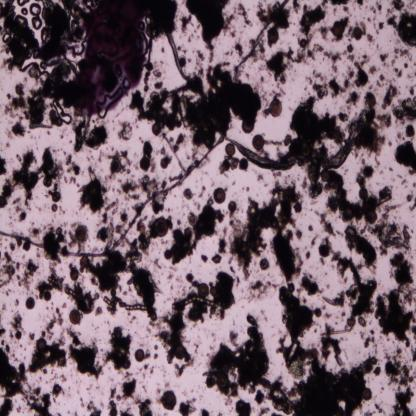Air bubble: (52, 101, 73, 125), (31, 16, 43, 30), (30, 3, 41, 16), (20, 6, 29, 16), (16, 0, 30, 6), (2, 34, 11, 42)
Background material: (180, 62, 261, 148), (270, 356, 378, 416), (202, 314, 272, 406), (225, 196, 277, 280), (285, 98, 347, 160), (275, 282, 314, 380), (330, 252, 376, 330), (323, 171, 394, 216), (184, 0, 236, 60), (128, 234, 161, 322), (0, 0, 39, 70), (373, 284, 416, 346), (347, 107, 392, 166), (129, 88, 183, 132), (383, 348, 416, 416), (65, 324, 103, 379), (376, 202, 412, 256), (41, 5, 74, 63), (159, 312, 194, 364), (272, 178, 303, 232), (90, 253, 128, 297), (94, 202, 126, 251), (346, 222, 377, 272), (273, 232, 304, 282), (13, 152, 38, 210), (104, 325, 134, 373), (0, 348, 28, 398), (80, 166, 108, 216), (72, 119, 111, 153), (164, 228, 198, 266), (43, 65, 73, 108), (306, 70, 350, 98), (193, 202, 226, 239), (30, 343, 68, 372), (118, 174, 168, 196), (148, 1, 177, 38), (322, 321, 345, 367), (267, 49, 298, 83), (22, 382, 52, 416), (29, 88, 52, 132), (299, 4, 325, 42), (388, 250, 415, 286), (41, 147, 63, 190), (43, 225, 67, 263), (323, 43, 355, 71), (2, 80, 27, 115), (213, 272, 237, 308), (393, 140, 416, 174), (15, 257, 38, 290), (391, 92, 416, 122), (73, 282, 94, 316), (398, 11, 416, 50), (127, 236, 152, 264), (40, 308, 64, 337), (246, 281, 279, 302), (353, 52, 371, 89), (305, 162, 323, 198), (185, 300, 209, 325), (300, 272, 326, 295), (357, 160, 376, 191), (316, 210, 337, 238), (0, 252, 16, 288), (106, 151, 132, 173), (64, 154, 80, 186), (0, 173, 13, 211), (298, 44, 324, 63), (381, 84, 399, 111), (212, 237, 229, 265), (236, 1, 252, 28), (168, 273, 186, 296), (108, 387, 122, 416), (178, 396, 198, 416), (134, 397, 154, 416), (124, 192, 143, 211), (174, 360, 194, 378), (144, 57, 154, 92), (12, 115, 27, 138), (358, 329, 376, 348), (120, 379, 137, 399), (116, 121, 132, 142), (12, 198, 26, 221), (343, 90, 359, 110), (8, 312, 24, 332), (159, 146, 172, 170), (314, 25, 332, 41), (152, 195, 167, 214), (392, 48, 412, 62), (235, 400, 252, 416), (86, 400, 102, 416), (38, 280, 50, 301), (186, 272, 200, 290), (0, 398, 14, 416), (410, 323, 416, 365), (179, 13, 192, 32), (209, 310, 226, 323), (141, 140, 153, 158), (334, 290, 346, 308), (386, 10, 397, 29), (403, 123, 416, 139), (154, 62, 165, 80), (139, 363, 153, 377), (27, 224, 42, 237), (48, 276, 61, 291), (338, 108, 351, 123), (379, 51, 391, 67), (406, 193, 416, 212), (391, 0, 405, 13), (339, 16, 352, 29), (119, 405, 134, 416), (0, 156, 8, 176), (234, 42, 245, 56), (327, 0, 349, 7), (52, 384, 63, 398), (292, 0, 301, 16), (376, 74, 386, 88), (29, 65, 39, 79), (360, 19, 368, 36), (182, 188, 194, 199), (21, 239, 31, 252), (366, 32, 376, 45), (369, 65, 378, 79), (396, 175, 407, 186), (393, 67, 403, 79), (154, 79, 164, 90), (155, 387, 161, 405), (95, 305, 104, 317), (376, 1, 383, 16), (198, 185, 206, 198), (154, 343, 160, 360), (406, 0, 416, 10), (200, 253, 209, 264), (144, 347, 151, 361), (373, 365, 381, 377), (304, 249, 312, 261), (51, 201, 59, 213), (343, 6, 352, 16), (14, 153, 22, 164), (4, 342, 11, 354), (200, 408, 210, 416), (0, 324, 6, 337), (9, 241, 16, 252), (28, 332, 36, 341), (13, 298, 20, 308), (16, 238, 22, 249), (256, 174, 264, 182), (355, 0, 364, 6), (378, 22, 384, 30), (308, 225, 314, 232)
Cellulose filter fibre: (221, 132, 353, 169), (238, 1, 288, 67), (168, 34, 191, 84)
Cotton: (0, 138, 225, 261)
Diatom: (163, 135, 188, 172), (170, 296, 219, 312), (269, 98, 283, 118), (154, 218, 168, 238), (162, 390, 176, 410), (213, 186, 226, 204), (118, 304, 147, 312), (251, 134, 265, 150), (197, 281, 209, 299), (74, 226, 87, 242), (242, 118, 255, 134), (331, 22, 344, 36), (318, 243, 330, 258), (217, 373, 229, 388), (69, 309, 81, 324), (42, 288, 52, 305), (267, 29, 279, 43), (79, 255, 91, 269), (139, 157, 151, 171), (366, 211, 379, 223), (36, 337, 47, 351), (320, 168, 331, 182), (342, 207, 353, 221), (174, 346, 184, 361), (225, 142, 235, 157), (134, 349, 145, 362), (187, 213, 198, 226), (64, 288, 78, 298), (362, 388, 372, 402), (366, 93, 376, 107), (322, 296, 334, 307), (25, 296, 35, 309), (352, 27, 362, 40), (239, 157, 249, 170), (70, 268, 79, 282), (102, 296, 113, 307), (151, 124, 161, 136), (230, 157, 238, 171), (260, 258, 268, 272), (358, 189, 368, 200), (228, 200, 237, 212), (137, 222, 146, 234), (52, 190, 61, 201), (310, 347, 317, 360), (76, 185, 86, 194), (314, 308, 322, 318), (299, 38, 307, 48), (14, 330, 22, 340), (48, 110, 56, 120), (55, 117, 63, 126), (209, 288, 216, 296)
Pen: (73, 0, 150, 117)
